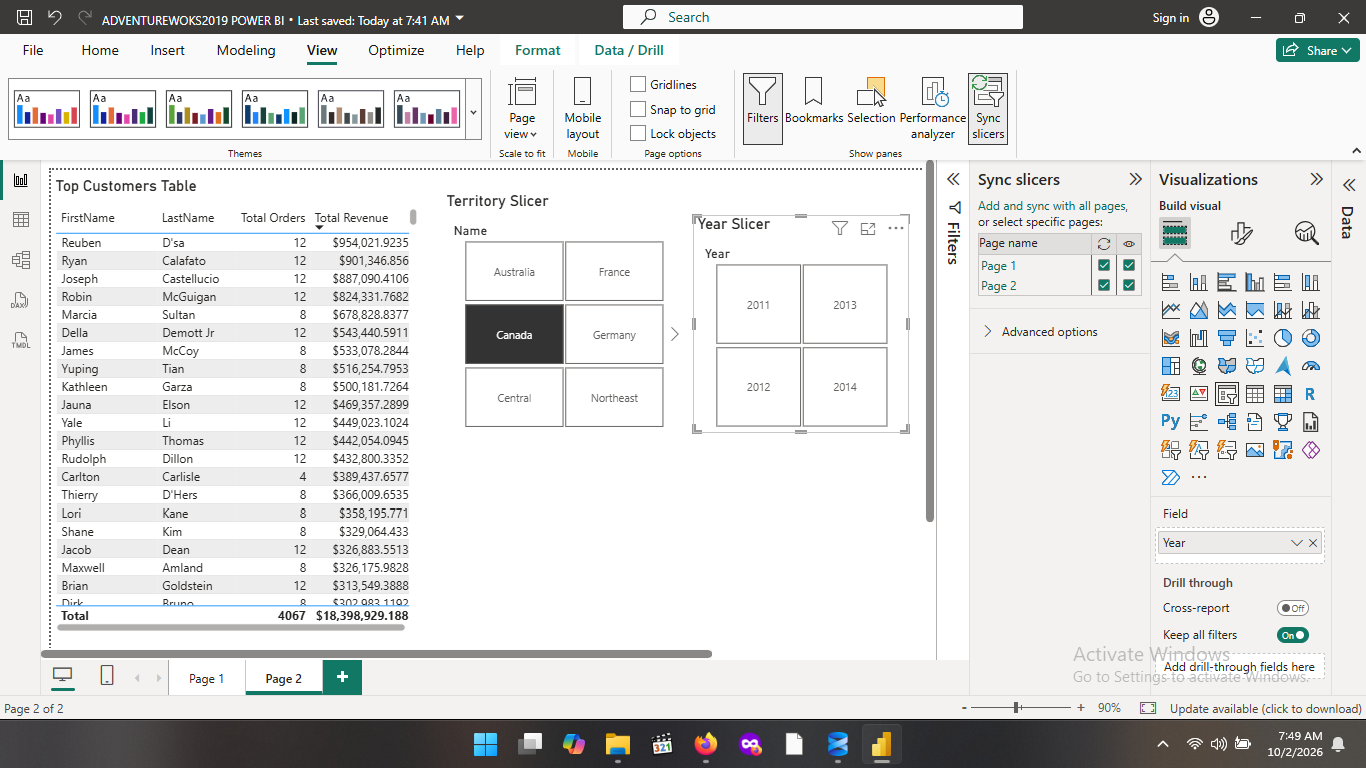

The page's visual inventory and layout, read from the dashboard file:
{"tool":"powerbi","page":{"name":"Page 2","canvas":[1280,720],"ordinal":1},"visuals":[{"type":"tableEx","title":"Top Customers Table","fields":{"Values":["Person Person.FirstName","Person Person.LastName","Sales SalesOrderHeader.Total Orders","Sales SalesOrderHeader.Total Revenue"]},"box":[0,7.3,424.4,701],"z":0},{"type":"slicer","title":"Territory Slicer","fields":{"Values":["Sales SalesTerritory.Name"]},"box":[718.5,24.9,264.9,320.5],"z":1000},{"type":"slicer","title":"Year Slicer","fields":{"Values":["Date Table.Year"]},"box":[983.4,49.8,256.1,242.9],"z":2000}]}

Visuals, with their boxes on the page's 1280x720 design canvas (x1, y1, x2, y2). These are canvas units, not pixel positions in the 1366x768 screenshot, which may show the page scaled, cropped or inside an application window:
"Top Customers Table" tableEx: crop(0, 7, 424, 708)
"Territory Slicer" slicer: crop(718, 25, 983, 345)
"Year Slicer" slicer: crop(983, 50, 1240, 293)
